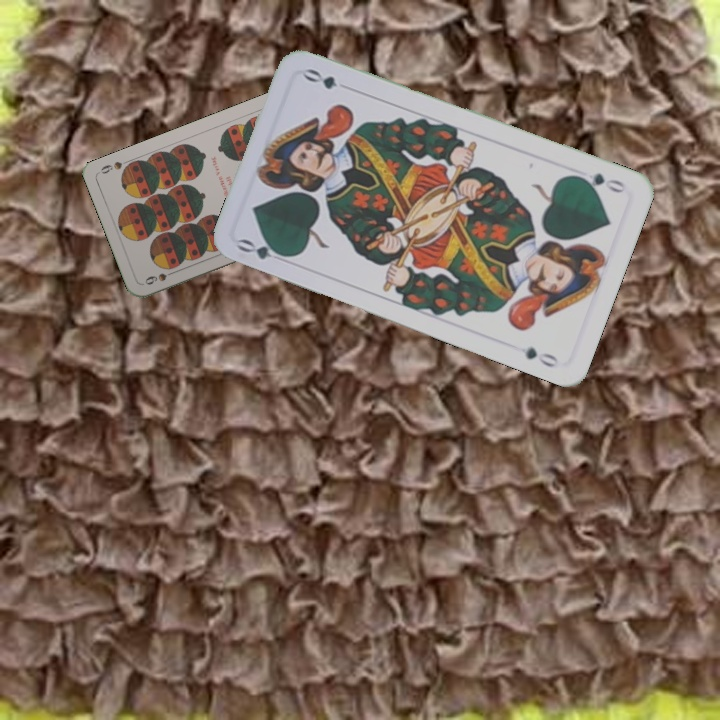GO: (233, 234, 293, 262), (570, 169, 628, 196)
S9: (140, 266, 179, 287)
